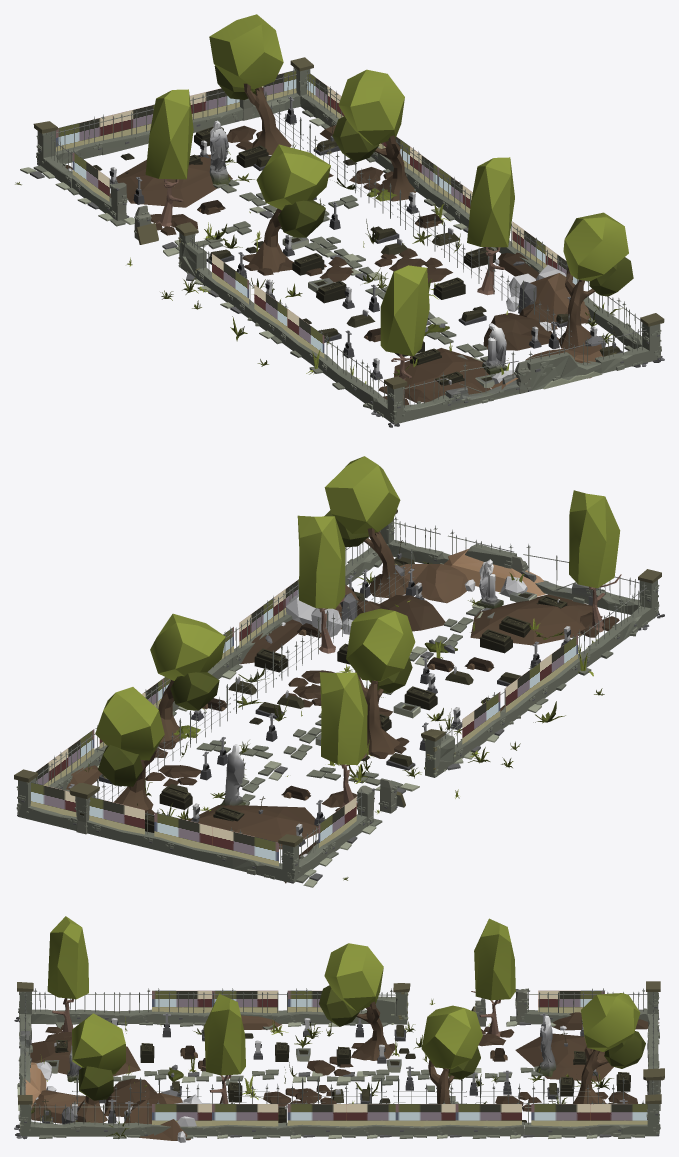
The model's file is NecroPOLY_Chunk_01e.fbx.
The picture shows the model from 3 angles, top to bottom: view 1: azimuth 30°, elevation 25°; view 2: azimuth 150°, elevation 25°; view 3: azimuth 270°, elevation 25°; orthographic projection. The views are drawn at different scales.
Parts seen in each view (by area): view 1: NecroPOLY_Chunk_01e_LOD0; view 2: NecroPOLY_Chunk_01e_LOD0; view 3: NecroPOLY_Chunk_01e_LOD0.
Boxes of the visible parts, x1,y1,x2,y2 form: NecroPOLY_Chunk_01e_LOD0: (15,14,664,427); NecroPOLY_Chunk_01e_LOD0: (14,456,664,887); NecroPOLY_Chunk_01e_LOD0: (14,916,664,1142).
Size of what is drawn, in the model's own units: 46.17 by 17.94 by 87.99.
